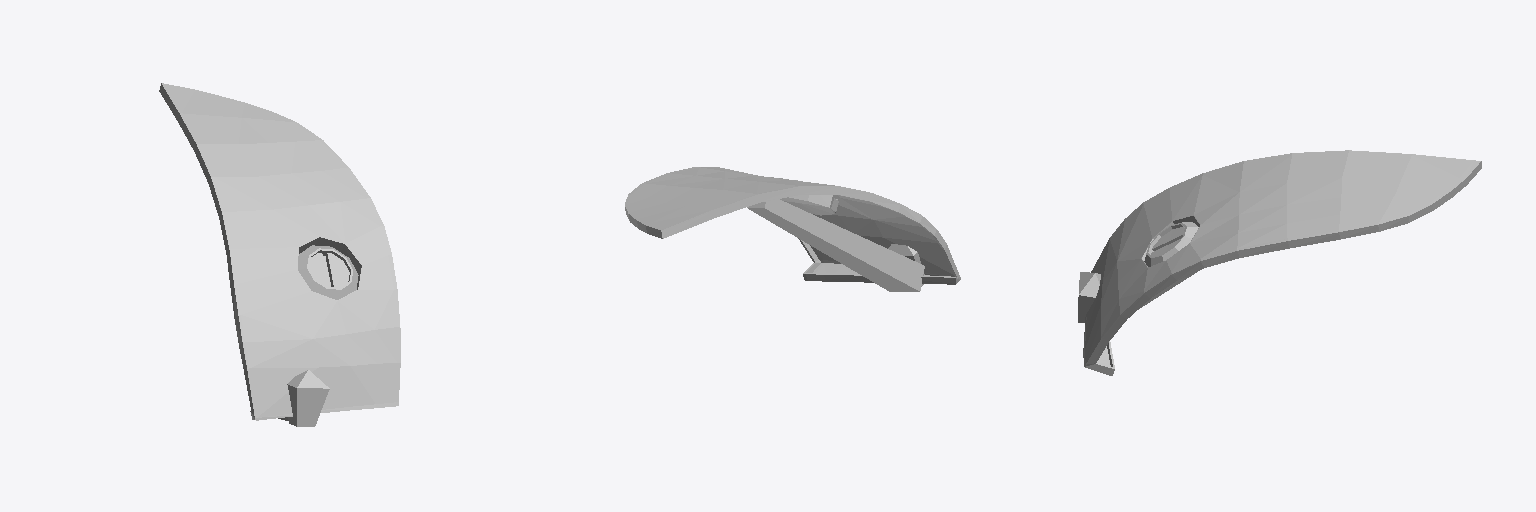
The model's file is flyA.obj.
The picture shows the model from 3 angles: view 1: azimuth 30°, elevation 25°; view 2: azimuth 150°, elevation 25°; view 3: azimuth 270°, elevation 25°; orthographic projection.
Visible parts, largest first — view 1: body:null_18, body:null_17, body:null_162; view 2: body:null_18, body:null_163; view 3: body:null_18, body:null_17, body:null_162.
Boxes of the visible parts, x1=… form: body:null_18: x1=159, y1=83, x2=400, y2=420; body:null_17: x1=298, y1=245, x2=358, y2=299; body:null_162: x1=287, y1=370, x2=329, y2=426; body:null_18: x1=625, y1=167, x2=960, y2=284; body:null_163: x1=747, y1=199, x2=924, y2=291; body:null_18: x1=1083, y1=150, x2=1481, y2=375; body:null_17: x1=1144, y1=222, x2=1198, y2=266; body:null_162: x1=1078, y1=272, x2=1100, y2=322.
Size of the model in its own units: 1.31 by 1.27 by 2.37.